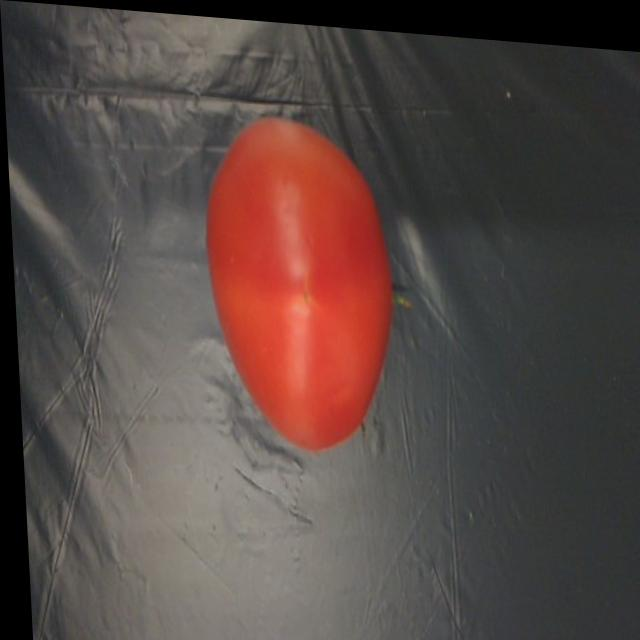kirmizi: (189, 94, 411, 459)
